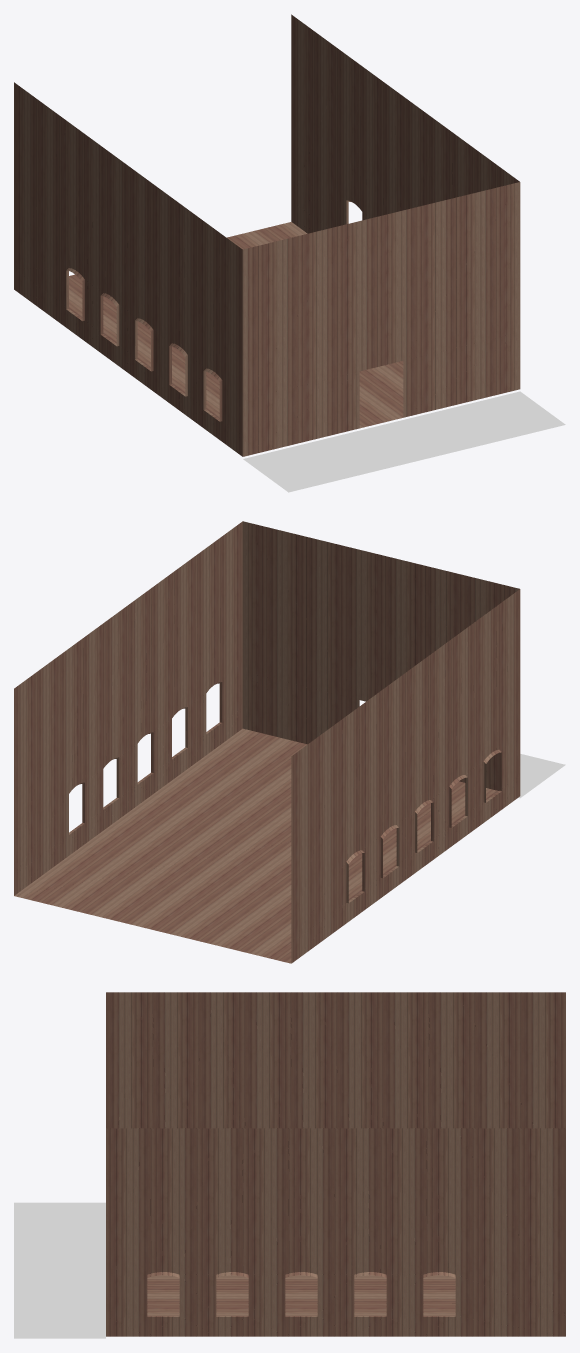
Rendered from SM_Room.fbx.
3 views of the same model, one above another, from view 1: azimuth 30°, elevation 25°; view 2: azimuth 150°, elevation 25°; view 3: azimuth 270°, elevation 25° (orthographic).
Parts seen in each view (by area): view 1: SM_Room; view 2: SM_Room; view 3: SM_Room.
Part boxes in pixels (left/top/right/bottom): SM_Room: left=14, top=14, right=565, bottom=492; SM_Room: left=14, top=521, right=565, bottom=963; SM_Room: left=14, top=992, right=565, bottom=1338.
Bounding box in the file's own units: 1425 × 1010 × 2400.
